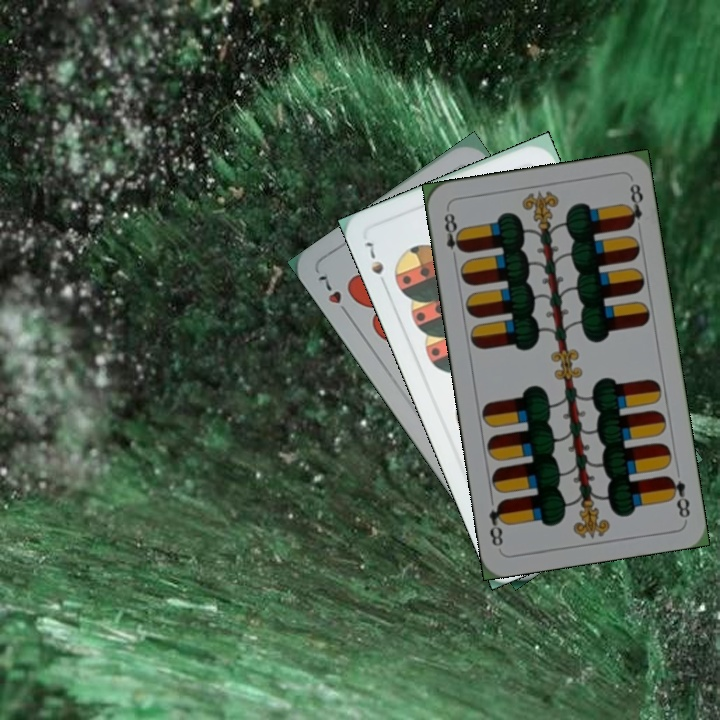E8: (440, 205, 467, 265), (663, 472, 693, 521)
H7: (314, 271, 353, 321)
S7: (359, 237, 390, 291)
